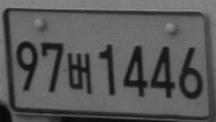1: (96, 44, 120, 95)
4: (122, 44, 148, 97), (149, 46, 175, 98)
6: (178, 46, 203, 99)
7: (40, 41, 64, 92)
9: (15, 40, 38, 92)
버: (66, 52, 92, 93)
